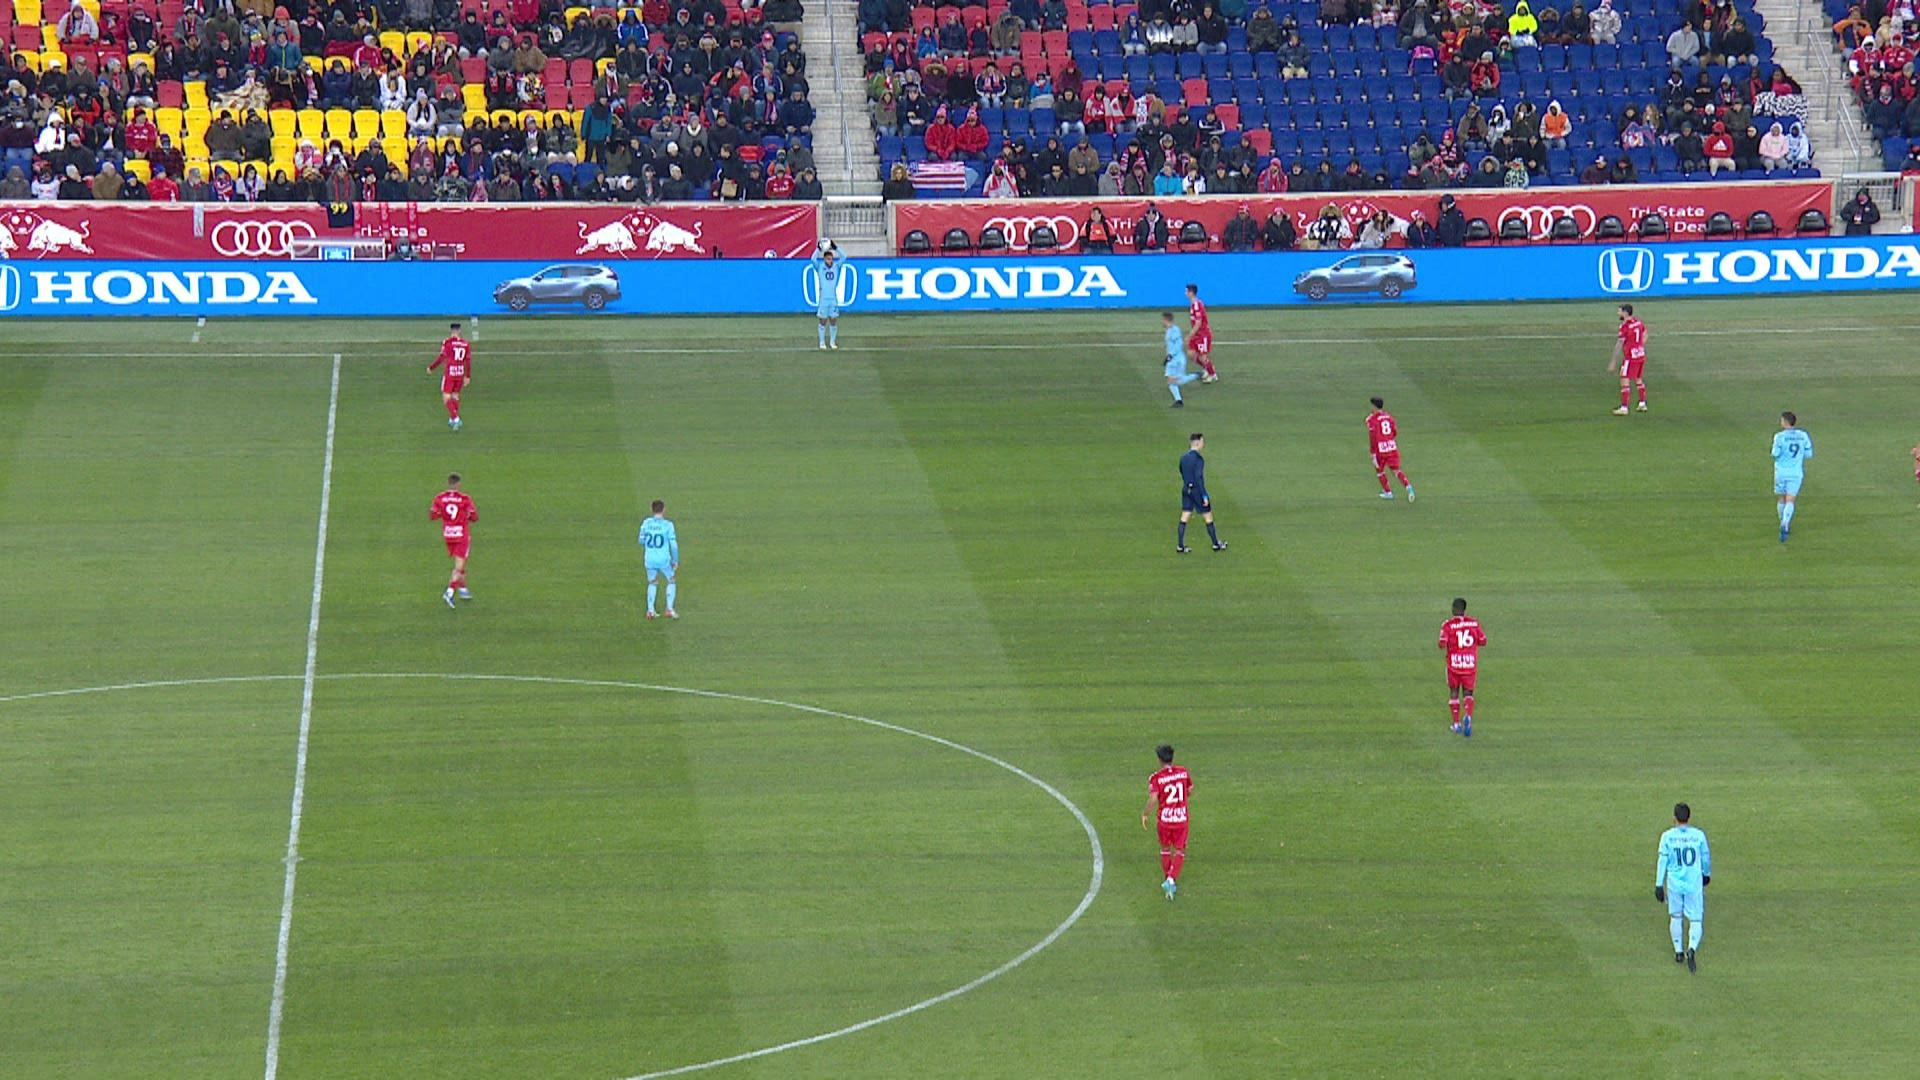football: (820, 238, 831, 251)
